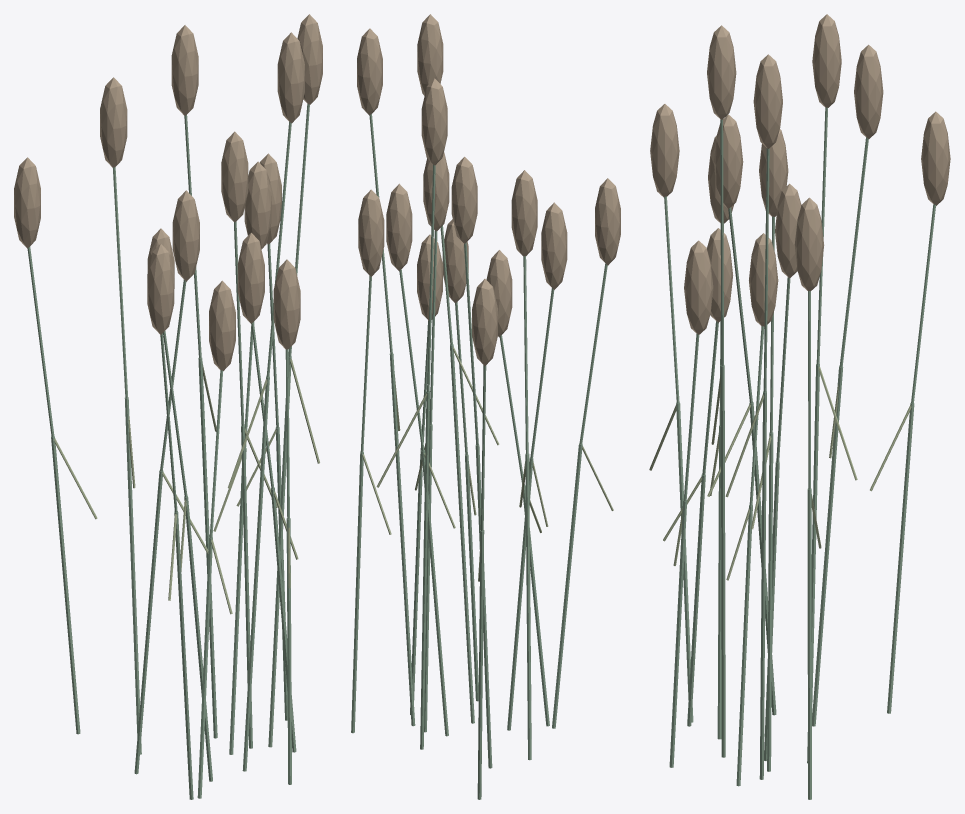
Rendered from env_reed_bundle.glb.
3 renders of one model, left to right at view 1: azimuth 30°, elevation 25°; view 2: azimuth 150°, elevation 25°; view 3: azimuth 270°, elevation 25°, orthographic. The views are drawn at different scales.
Parts seen in each view (by area): view 1: env_reed_bundle/reed_feather_plume_00034, env_reed_bundle/reed_feather_plume_00030, env_reed_bundle/reed_feather_plume_00002, env_reed_bundle/reed_feather_plume_00038, env_reed_bundle/reed_feather_plume_00046, env_reed_bundle/reed_feather_plume_00054, env_reed_bundle/reed_feather_plume_00006, env_reed_bundle/reed_feather_plume_00050, env_reed_bundle/reed_feather_plume_00018, env_reed_bundle/reed_feather_plume_00026, env_reed_bundle/reed_stalk_lo_00048, env_reed_bundle/reed_feather_plume_00042 (+27 smaller); view 2: env_reed_bundle/reed_feather_plume_00022, env_reed_bundle/reed_feather_plume_00010, env_reed_bundle/reed_feather_plume_00002, env_reed_bundle/reed_feather_plume_00006, env_reed_bundle/reed_feather_plume_00042, env_reed_bundle/reed_feather_plume_00038, env_reed_bundle/reed_feather_plume_00030, env_reed_bundle/reed_feather_plume_00014, env_reed_bundle/reed_feather_plume_00018, env_reed_bundle/reed_stalk_lo_00048, env_reed_bundle/reed_stalk_lo_00012, env_reed_bundle/reed_feather_plume_00050 (+28 smaller); view 3: env_reed_bundle/reed_feather_plume_00030, env_reed_bundle/reed_feather_plume_00018, env_reed_bundle/reed_feather_plume_00006, env_reed_bundle/reed_feather_plume_00014, env_reed_bundle/reed_feather_plume_00046, env_reed_bundle/reed_feather_plume_00002, env_reed_bundle/reed_feather_plume_00050, env_reed_bundle/reed_feather_plume_00010, env_reed_bundle/reed_feather_plume_00038, env_reed_bundle/reed_feather_plume_00054, env_reed_bundle/reed_stalk_lo_00048, env_reed_bundle/reed_stalk_lo_00012 (+28 smaller).
Boxes of the visible parts, x1,y1,x2,y2 form: env_reed_bundle/reed_feather_plume_00034: (221, 131, 248, 222); env_reed_bundle/reed_feather_plume_00030: (147, 243, 174, 334); env_reed_bundle/reed_feather_plume_00002: (171, 25, 198, 115); env_reed_bundle/reed_feather_plume_00038: (172, 190, 199, 281); env_reed_bundle/reed_feather_plume_00046: (273, 259, 300, 349); env_reed_bundle/reed_feather_plume_00054: (237, 232, 264, 323); env_reed_bundle/reed_feather_plume_00006: (100, 77, 127, 167); env_reed_bundle/reed_feather_plume_00050: (277, 32, 304, 123); env_reed_bundle/reed_feather_plume_00018: (14, 157, 40, 248); env_reed_bundle/reed_feather_plume_00026: (209, 280, 235, 370); env_reed_bundle/reed_stalk_lo_00048: (242, 376, 269, 771); env_reed_bundle/reed_feather_plume_00042: (244, 161, 271, 249); env_reed_bundle/reed_feather_plume_00022: (541, 202, 567, 289); env_reed_bundle/reed_feather_plume_00010: (358, 189, 384, 276); env_reed_bundle/reed_feather_plume_00002: (421, 78, 447, 165); env_reed_bundle/reed_feather_plume_00006: (451, 156, 477, 243); env_reed_bundle/reed_feather_plume_00042: (386, 183, 412, 270); env_reed_bundle/reed_feather_plume_00038: (511, 170, 537, 256); env_reed_bundle/reed_feather_plume_00030: (595, 178, 620, 265); env_reed_bundle/reed_feather_plume_00014: (357, 28, 382, 115); env_reed_bundle/reed_feather_plume_00018: (472, 279, 497, 365); env_reed_bundle/reed_stalk_lo_00048: (450, 344, 474, 723); env_reed_bundle/reed_stalk_lo_00012: (389, 353, 415, 726); env_reed_bundle/reed_feather_plume_00050: (417, 14, 443, 95); env_reed_bundle/reed_feather_plume_00030: (650, 104, 679, 197); env_reed_bundle/reed_feather_plume_00018: (921, 111, 950, 205); env_reed_bundle/reed_feather_plume_00006: (854, 44, 883, 138); env_reed_bundle/reed_feather_plume_00014: (753, 54, 782, 148); env_reed_bundle/reed_feather_plume_00046: (684, 240, 713, 334); env_reed_bundle/reed_feather_plume_00002: (812, 14, 841, 107); env_reed_bundle/reed_feather_plume_00050: (707, 25, 736, 119); env_reed_bundle/reed_feather_plume_00010: (794, 197, 824, 291); env_reed_bundle/reed_feather_plume_00038: (713, 114, 743, 208); env_reed_bundle/reed_feather_plume_00054: (749, 233, 778, 326); env_reed_bundle/reed_stalk_lo_00048: (720, 365, 725, 757); env_reed_bundle/reed_stalk_lo_00012: (759, 391, 766, 779).
Bounding box in the file's own units: 0.8231 × 2.54 × 0.9182.
